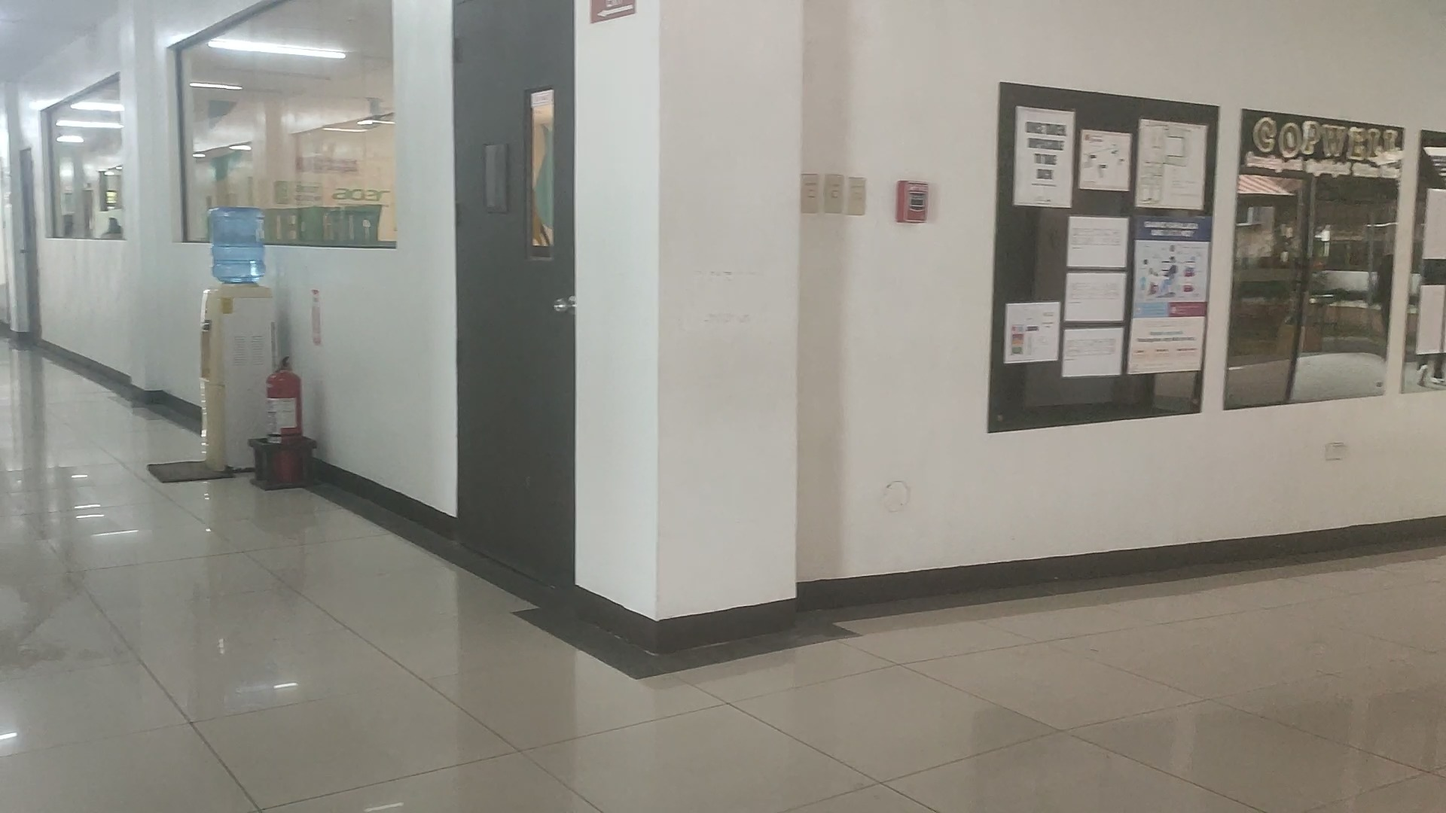door: (455, 0, 583, 604)
